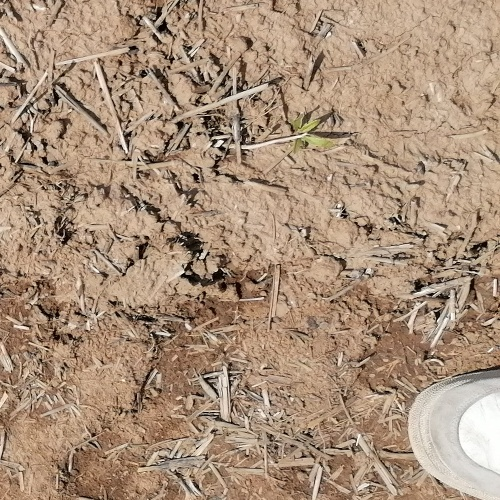beet: (293, 113, 329, 150)
